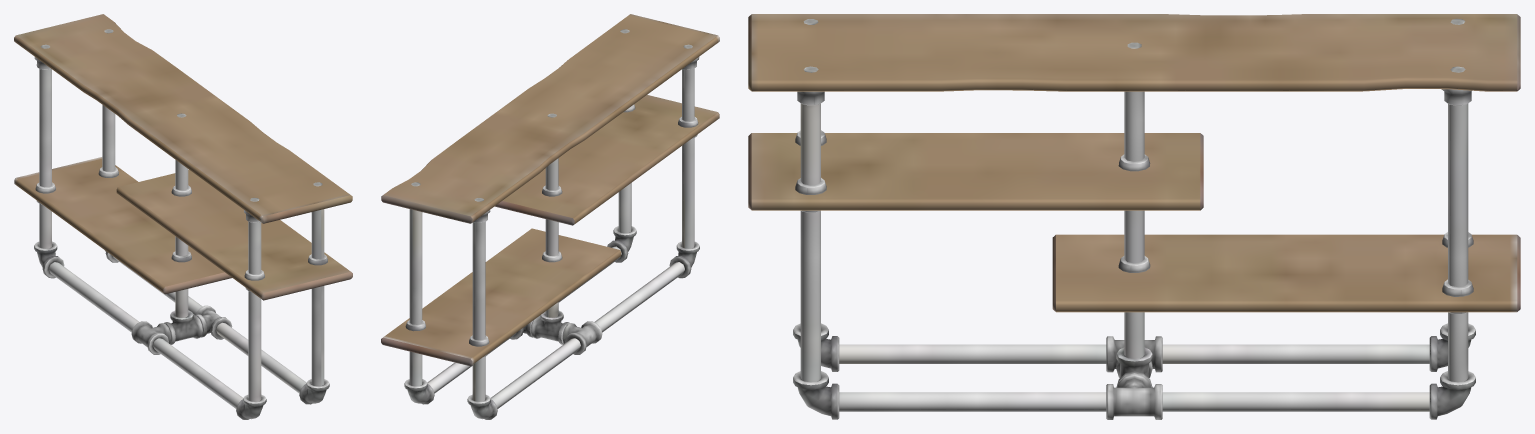
Rendered from SM_AVI_Shelf_04_7d86a3.glb.
3 views of the same model, side by side, from view 1: azimuth 30°, elevation 25°; view 2: azimuth 150°, elevation 25°; view 3: azimuth 270°, elevation 25° (orthographic). The views are drawn at different scales.
Size of the model in its own units: 0.4484 by 1.05 by 2.12.
Materials: 1 (1 with a texture image).
